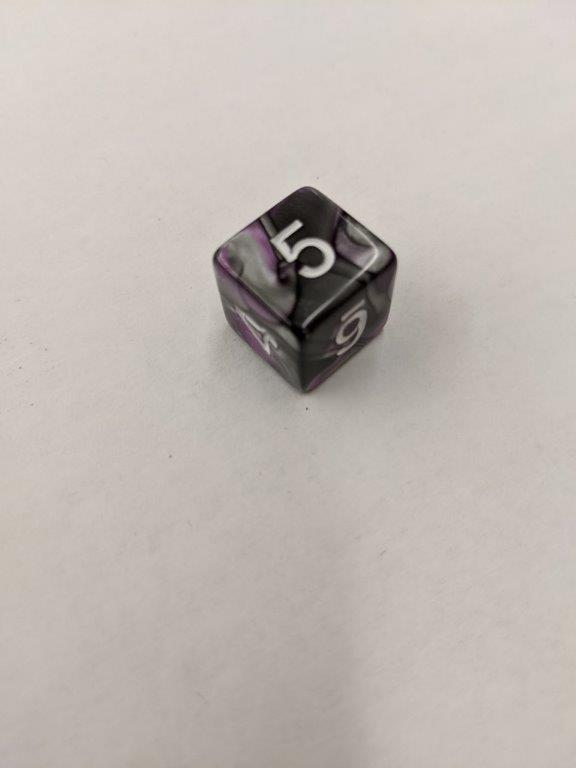d6-5: (215, 184, 396, 395)
